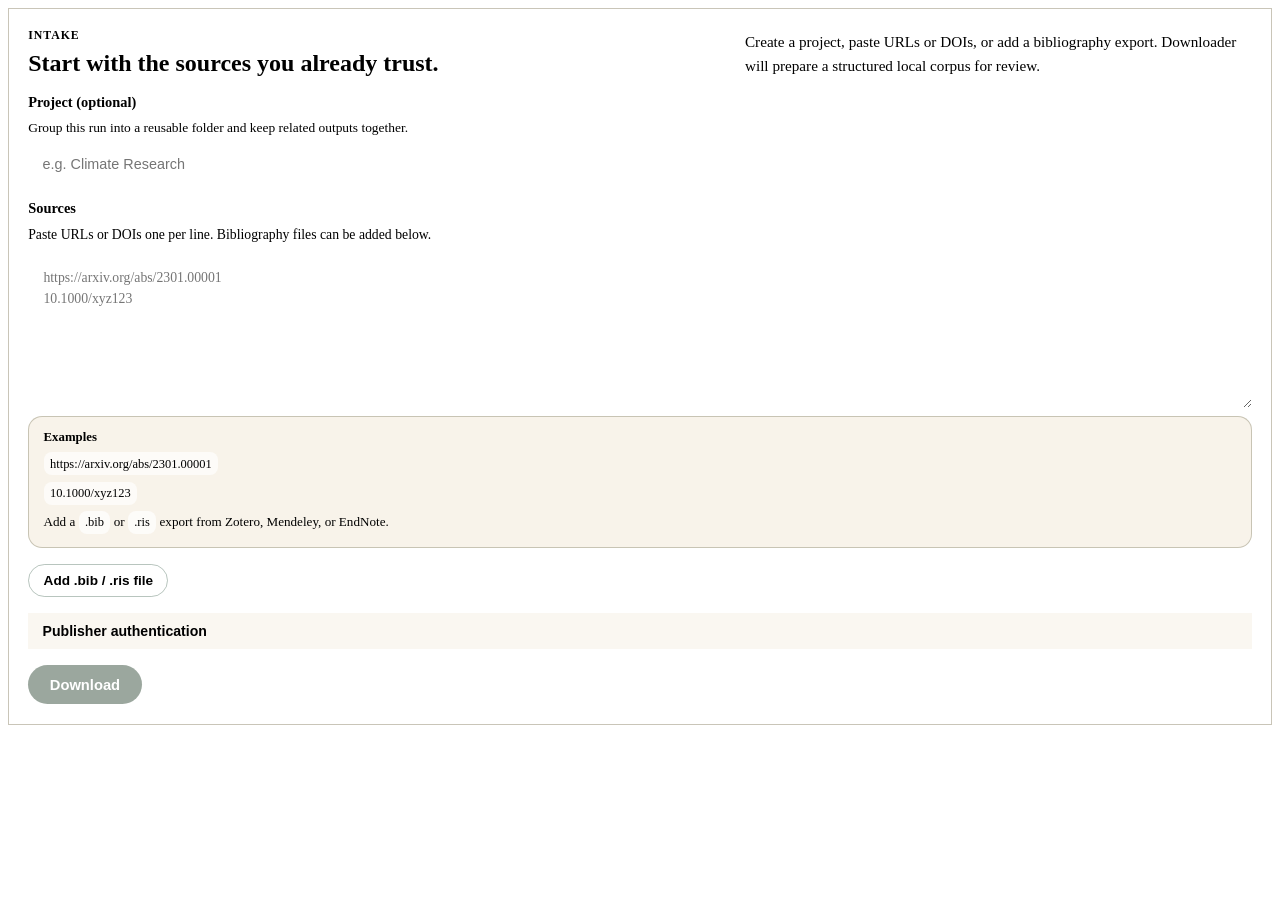
DownloadForm › clears bibPickerError when a subsequent pick succeeds
Note: First pick fails — error appears
Click the button "Add .bib / .ris file" at x=98, y=580, box [28, 564, 168, 597]
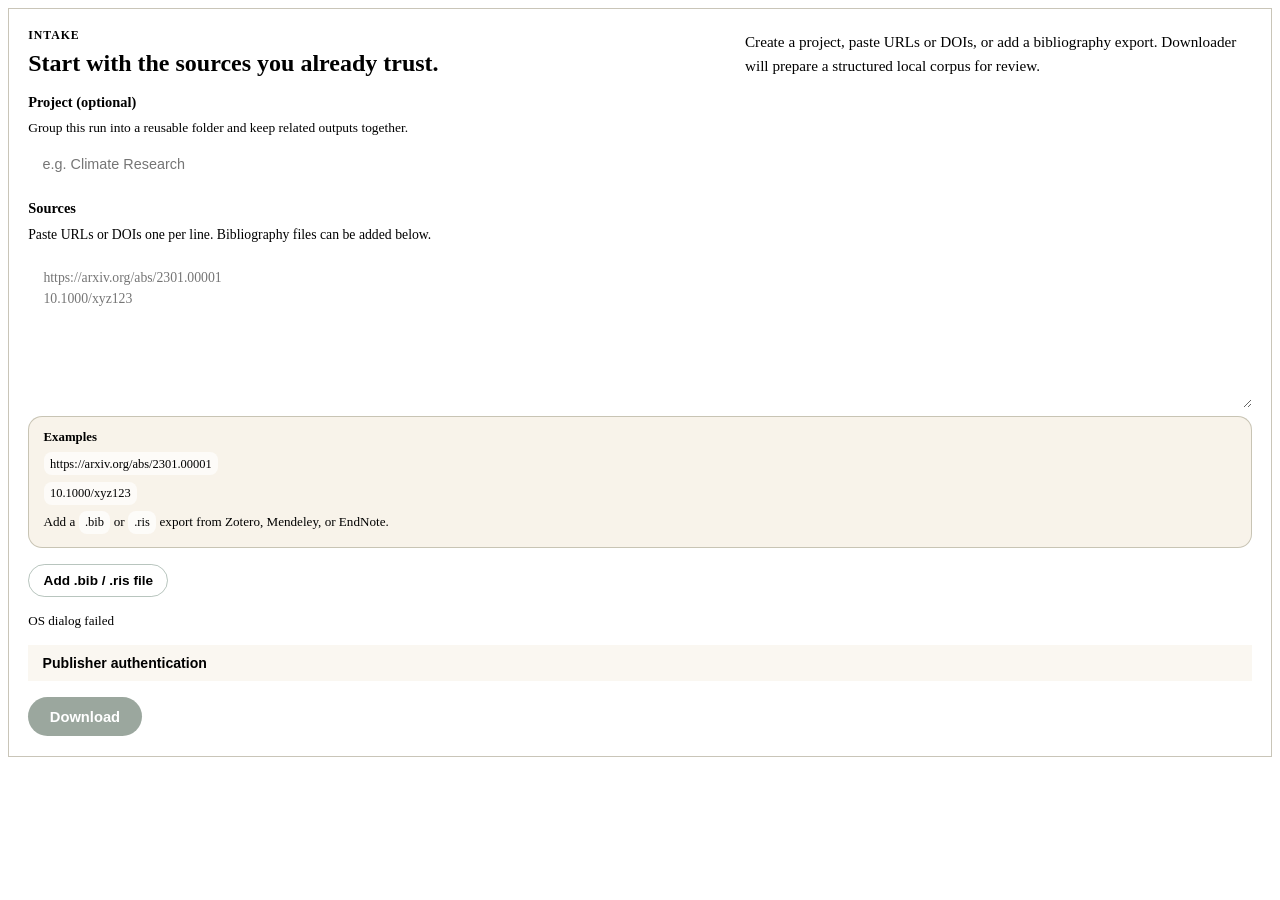
Expected: the message "OS dialog failed" is shown, [28, 613, 114, 628]
Note: Second pick succeeds — error disappears, chip appears
Click the button "Add .bib / .ris file" at x=98, y=580, box [28, 564, 168, 597]
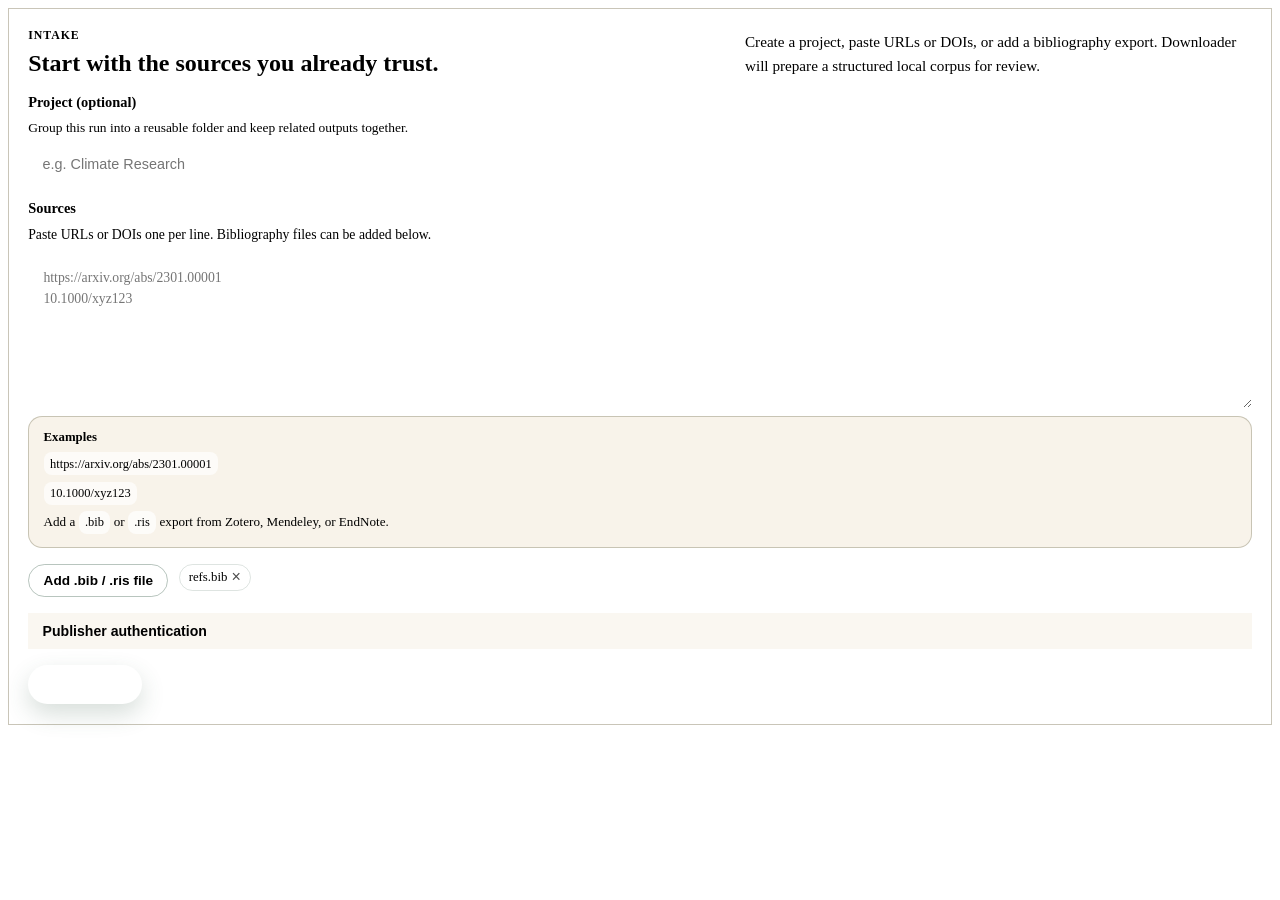
Expected: the message "OS dialog failed" is gone
Expected: the text "refs.bib" is shown, [189, 570, 227, 585]
